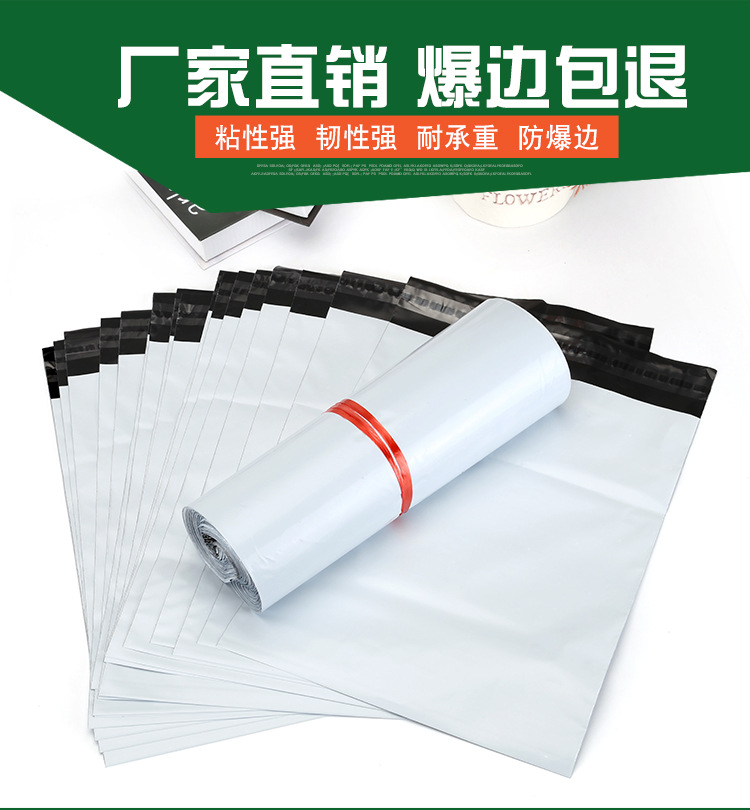Parcel: (33, 262, 717, 777)
